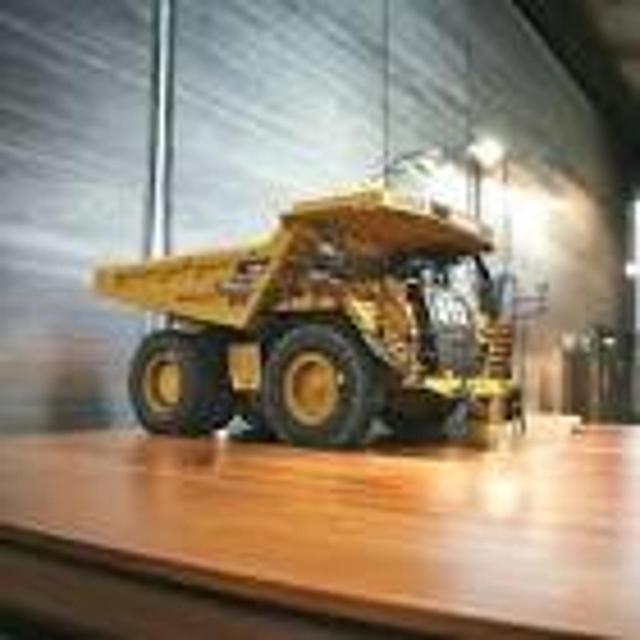dump_truck: (97, 173, 547, 466)
